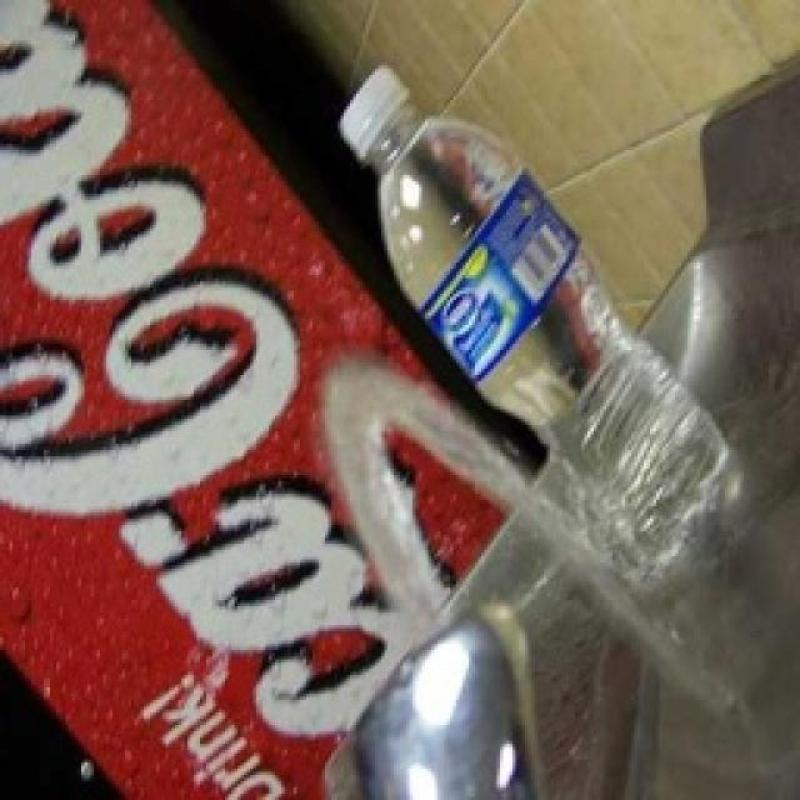botella: (334, 62, 728, 548)
